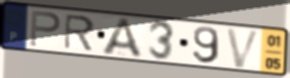3: (147, 18, 176, 64)
9: (192, 26, 221, 65)
A: (100, 16, 146, 60)
P: (28, 9, 63, 48)
R: (63, 13, 97, 52)
V: (224, 27, 263, 70)
